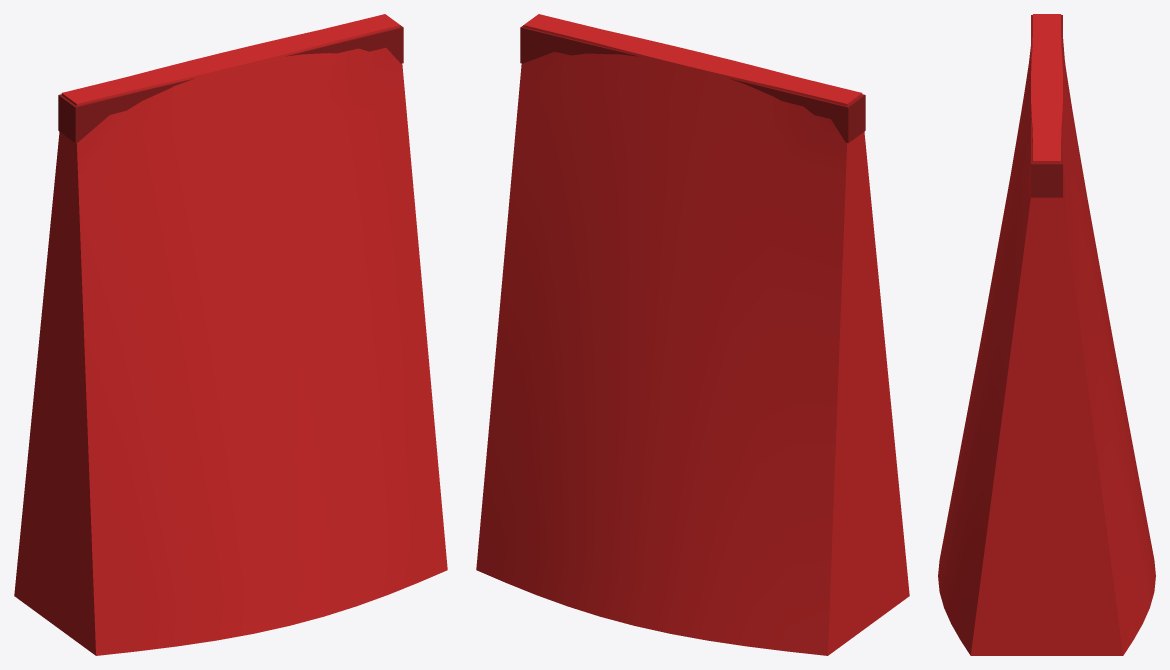
Rendered from snack-pouch.glb.
3 renders of one model, left to right at view 1: azimuth 30°, elevation 25°; view 2: azimuth 150°, elevation 25°; view 3: azimuth 270°, elevation 25°, orthographic. The views are drawn at different scales.
Visible parts, largest first — view 1: Doypack_Body, Zip_Header_Band; view 2: Doypack_Body, Zip_Header_Band; view 3: Doypack_Body, Zip_Header_Band.
Part boxes in pixels (bbox=[...]): Doypack_Body: bbox=[14, 14, 447, 655]; Zip_Header_Band: bbox=[58, 25, 403, 143]; Doypack_Body: bbox=[476, 14, 909, 655]; Zip_Header_Band: bbox=[520, 25, 865, 143]; Doypack_Body: bbox=[938, 14, 1155, 655]; Zip_Header_Band: bbox=[1031, 15, 1062, 197].
Size of the model in its own units: 0.165 by 0.235 by 0.095.
